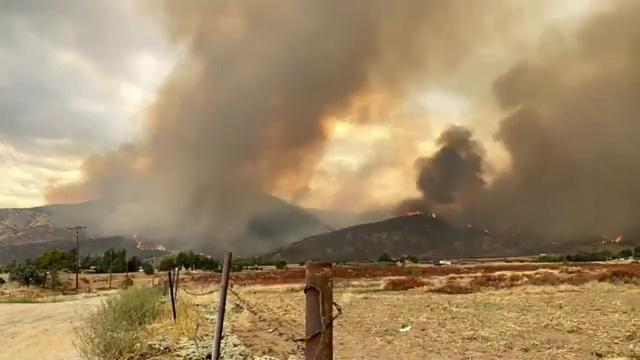smoke: (534, 95, 632, 225), (167, 94, 258, 222)
